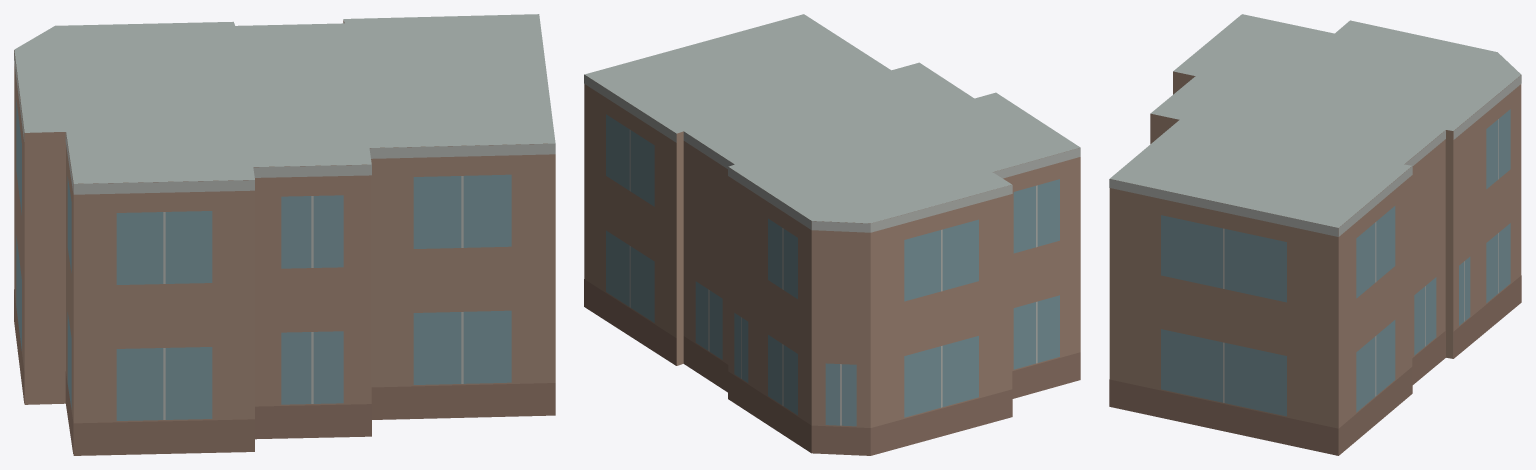
Rendered from survey-upis-32801027.glb.
3 renders of one model, left to right at view 1: azimuth 30°, elevation 25°; view 2: azimuth 150°, elevation 25°; view 3: azimuth 270°, elevation 25°, orthographic. The views are drawn at different scales.
Parts seen in each view (by area): view 1: survey-upis-32801027.tmp; view 2: survey-upis-32801027.tmp; view 3: survey-upis-32801027.tmp.
Boxes of the visible parts, bbox=[...] form: survey-upis-32801027.tmp: bbox=[14, 14, 555, 455]; survey-upis-32801027.tmp: bbox=[584, 14, 1080, 455]; survey-upis-32801027.tmp: bbox=[1109, 14, 1521, 455].
Bounding box in the file's own units: 12.29 × 6.1 × 10.
